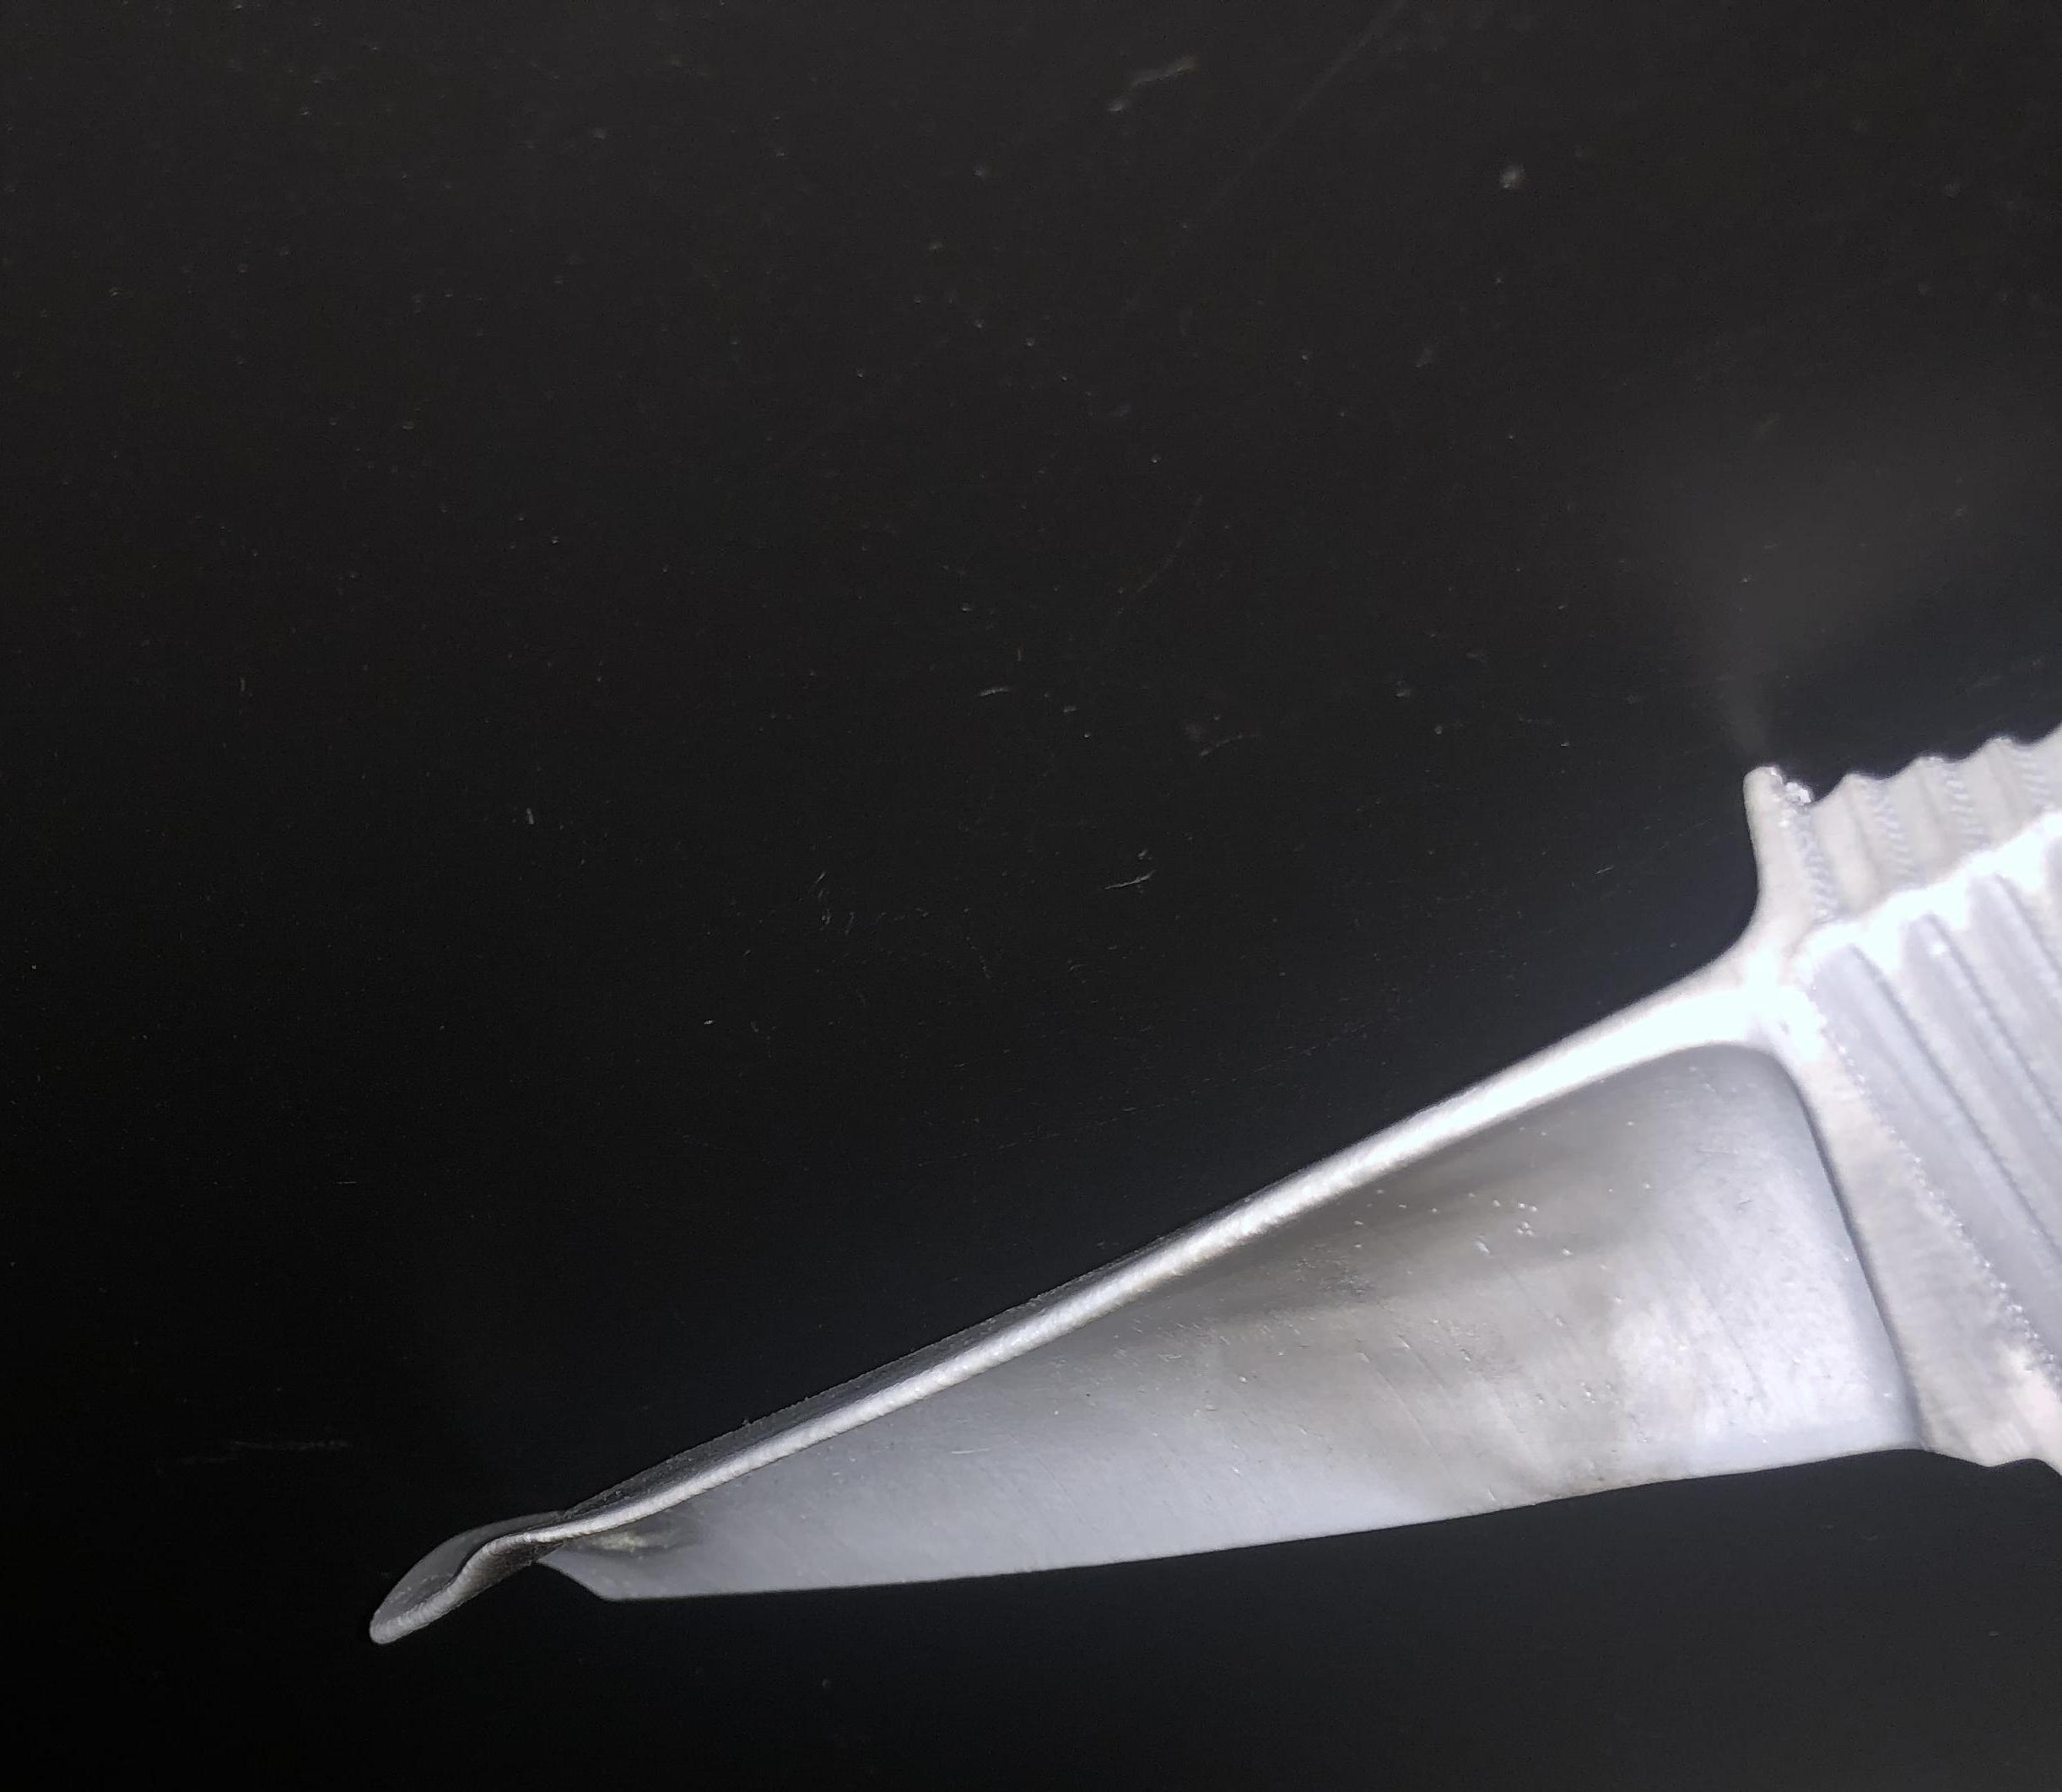ablation: (1124, 1254, 1604, 1380)
